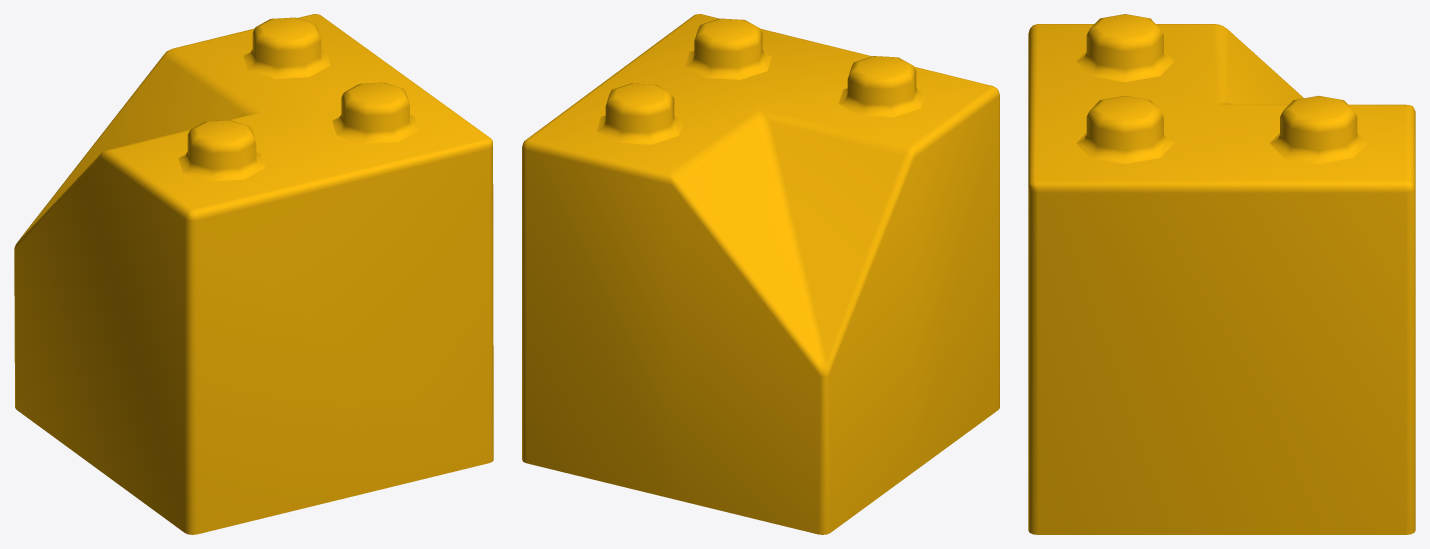
Rendered from Lowered_One_Corner.fbx.
3 views of the same model, side by side, from view 1: azimuth 30°, elevation 25°; view 2: azimuth 150°, elevation 25°; view 3: azimuth 270°, elevation 25° (orthographic). The views are drawn at different scales.
Visible parts, largest first — view 1: Lowered_One_Corner, Knobs.003; view 2: Lowered_One_Corner, Knobs.003; view 3: Lowered_One_Corner, Knobs.003.
Part boxes in pixels (bbox=[...]): Lowered_One_Corner: bbox=[14, 14, 493, 534]; Knobs.003: bbox=[178, 17, 418, 181]; Lowered_One_Corner: bbox=[522, 14, 999, 534]; Knobs.003: bbox=[596, 18, 925, 144]; Lowered_One_Corner: bbox=[1028, 24, 1415, 534]; Knobs.003: bbox=[1076, 14, 1367, 163].
Size of the model in its own units: 1 by 1.1 by 1.
